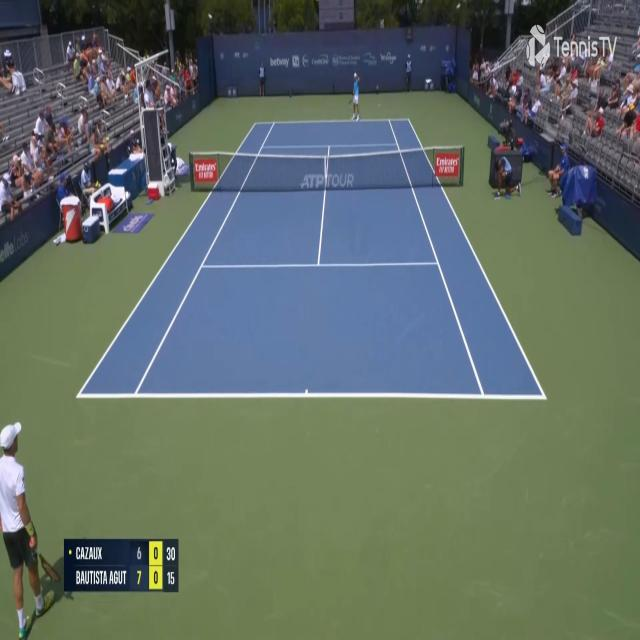tennis-player: (0, 417, 64, 637), (349, 71, 362, 123)
